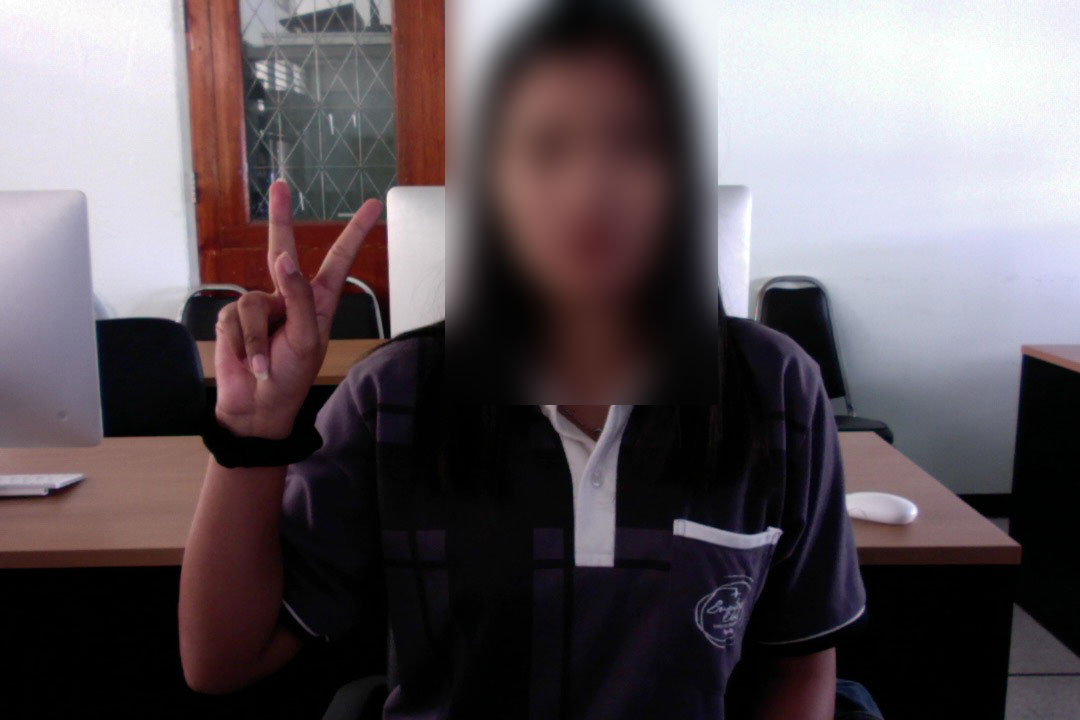ko: (198, 175, 388, 459)
